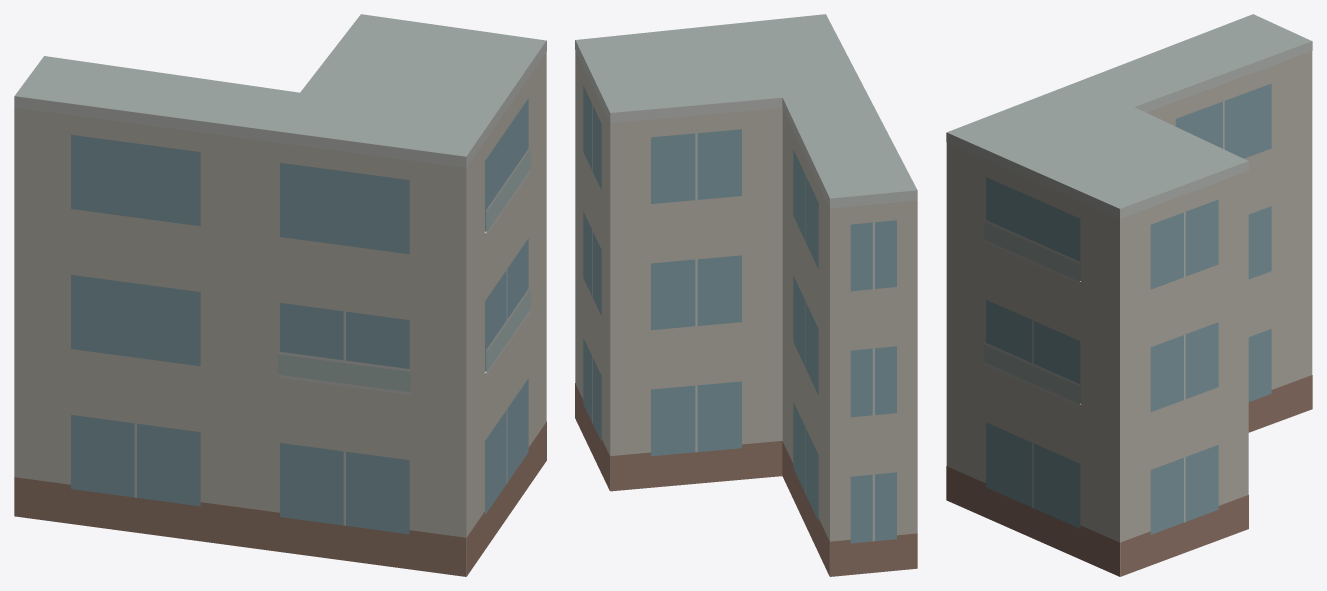
Rendered from survey-upis-32632701.glb.
3 renders of one model, left to right at view 1: azimuth 30°, elevation 25°; view 2: azimuth 150°, elevation 25°; view 3: azimuth 270°, elevation 25°, orthographic. The views are drawn at different scales.
Visible parts, largest first — view 1: survey-upis-32632701.tmp; view 2: survey-upis-32632701.tmp; view 3: survey-upis-32632701.tmp.
Part boxes in pixels (bbox=[...]): survey-upis-32632701.tmp: bbox=[14, 14, 546, 576]; survey-upis-32632701.tmp: bbox=[575, 14, 917, 576]; survey-upis-32632701.tmp: bbox=[946, 14, 1312, 576].
Size of the model in its own units: 10.41 by 9.15 by 8.25.
